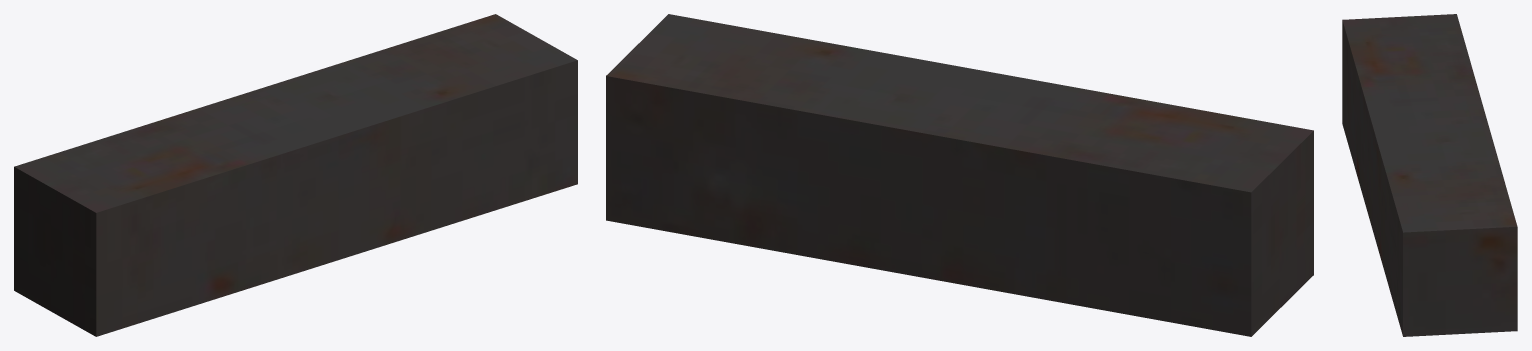
File: frame__rear_brace_0.glb
The picture shows the model from 3 angles, left to right: view 1: azimuth 30°, elevation 25°; view 2: azimuth 150°, elevation 25°; view 3: azimuth 270°, elevation 25°; orthographic projection. The views are drawn at different scales.
Parts seen in each view (by area): view 1: geometry_0; view 2: geometry_0; view 3: geometry_0.
Boxes of the visible parts, x1=… form: geometry_0: x1=14, y1=14, x2=577, y2=336; geometry_0: x1=606, y1=14, x2=1313, y2=336; geometry_0: x1=1342, y1=14, x2=1517, y2=336.
Size of the model in its own units: 0.2244 by 0.05 by 0.076.
Materials: 1 (1 with a texture image).
